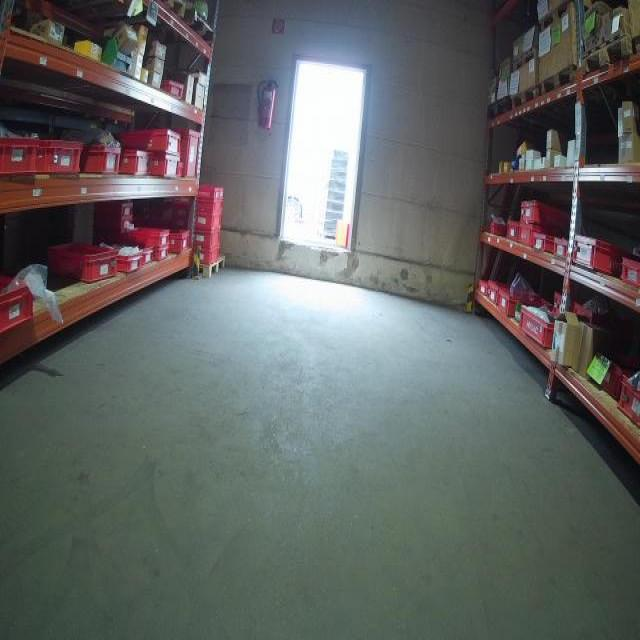pallet: (581, 37, 634, 76), (539, 62, 578, 96), (540, 0, 574, 34), (188, 10, 215, 46), (193, 255, 226, 280), (512, 83, 540, 112), (512, 45, 538, 73), (487, 93, 510, 119), (163, 0, 187, 20)
small_load_carrier: (46, 235, 122, 282), (2, 274, 41, 335), (106, 129, 185, 157), (571, 235, 621, 278), (515, 305, 558, 349), (171, 130, 206, 184), (35, 136, 83, 174), (2, 136, 41, 180), (518, 198, 573, 227), (496, 286, 542, 317), (84, 143, 122, 177), (141, 153, 178, 184), (96, 217, 138, 239), (619, 380, 639, 424), (127, 224, 167, 245), (125, 147, 151, 178), (114, 250, 142, 278), (618, 254, 639, 288), (102, 200, 134, 219), (190, 183, 225, 200), (529, 231, 553, 254), (170, 225, 189, 253), (196, 248, 222, 268), (196, 214, 223, 233), (552, 235, 571, 259), (194, 233, 223, 248), (192, 200, 223, 214), (139, 243, 156, 268), (162, 82, 181, 104), (506, 221, 524, 244), (489, 218, 509, 237), (488, 283, 505, 305), (519, 228, 535, 251), (156, 247, 174, 263), (478, 275, 488, 297)
